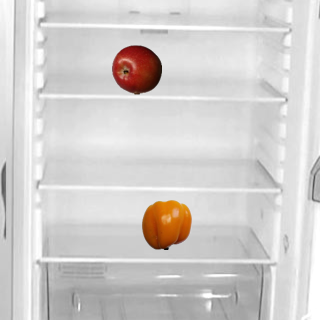Apple Braeburn: (111, 44, 161, 94)
Pepper Yellow: (141, 199, 191, 249)
